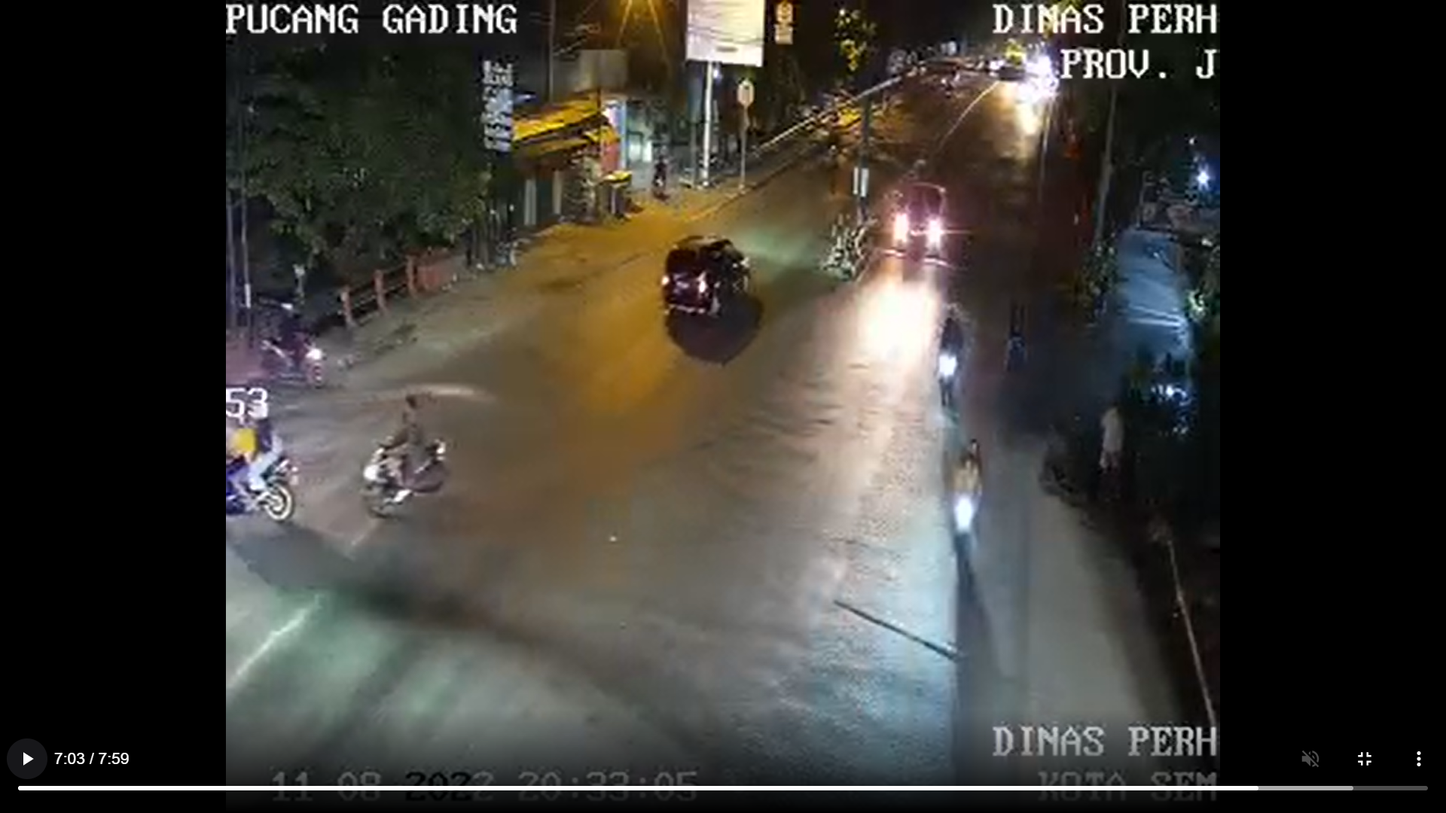without_helmet: (176, 376, 313, 536), (356, 387, 464, 526)
